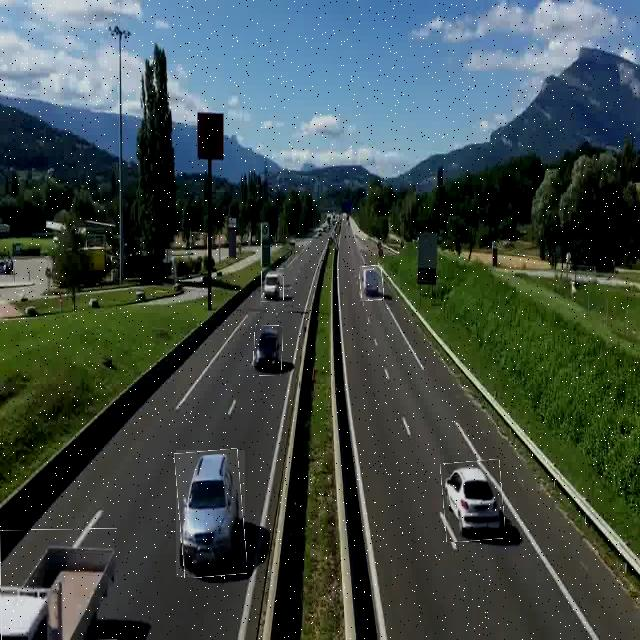Car: (176, 450, 245, 577), (442, 460, 503, 541), (254, 326, 282, 376), (360, 265, 384, 301), (262, 268, 284, 302)
Truck: (0, 528, 117, 640)
